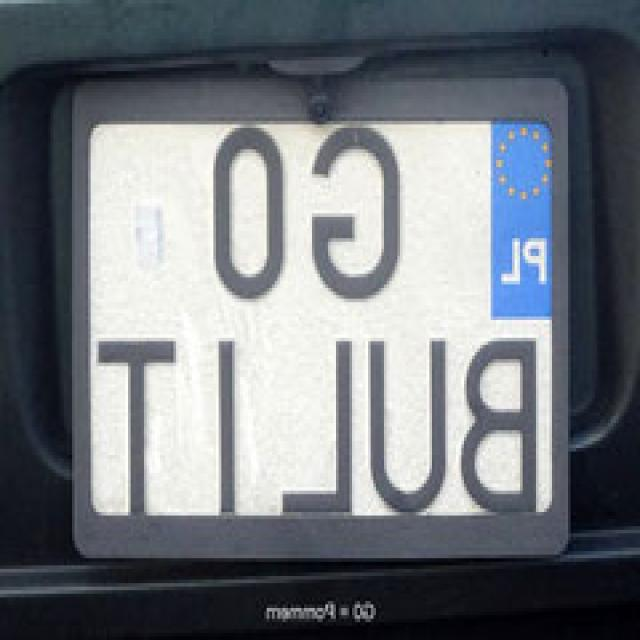pl_license_plate: (91, 118, 557, 516)
